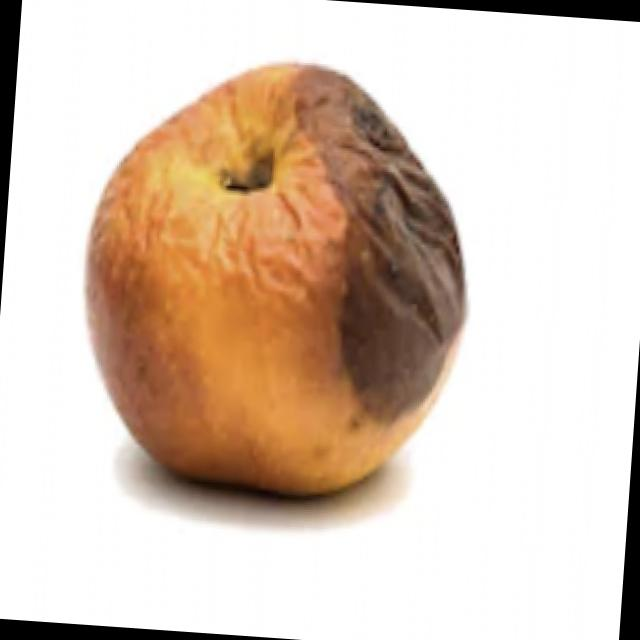rotten_apple: (78, 38, 484, 514)
